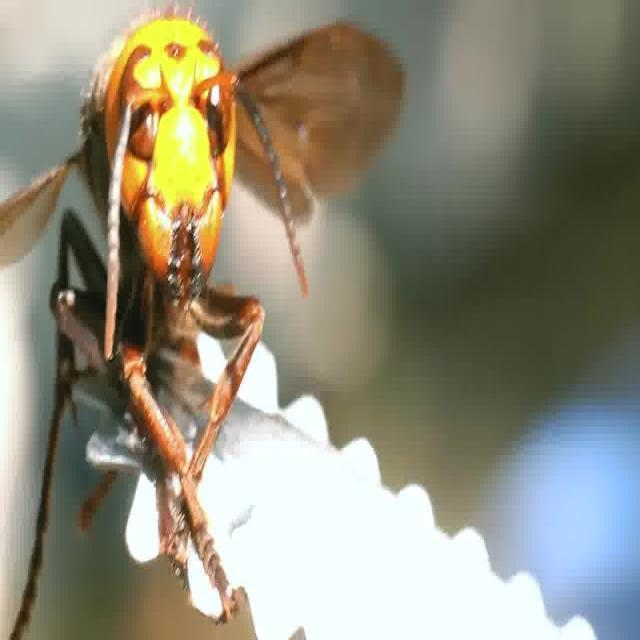Wasp: (3, 1, 399, 612)
